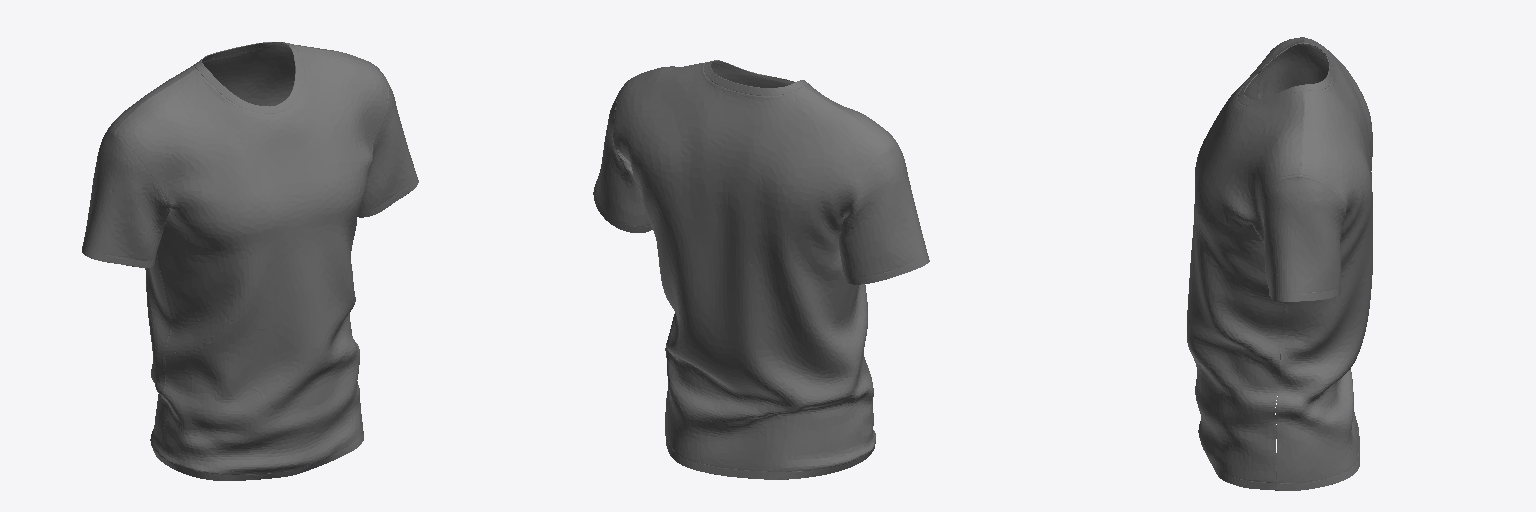
The picture shows the model from 3 angles: view 1: azimuth 30°, elevation 25°; view 2: azimuth 150°, elevation 25°; view 3: azimuth 270°, elevation 25°; orthographic projection.
Visible parts, largest first — view 1: front_Mesh.005, sleevee_Mesh.001, back_Mesh.004, sleevees_Mesh.007, neck_Mesh.003; view 2: back_Mesh.004, sleevee_Mesh.001, front_Mesh.005, sleevees_Mesh.007, neck_Mesh.003; view 3: front_Mesh.005, back_Mesh.004, sleevees_Mesh.007, sleevee_Mesh.001, neck_Mesh.003.
Part boxes in pixels (bbox=[...]): front_Mesh.005: bbox=[115, 46, 387, 480]; sleevee_Mesh.001: bbox=[82, 131, 169, 267]; back_Mesh.004: bbox=[107, 44, 368, 459]; sleevees_Mesh.007: bbox=[357, 77, 418, 217]; neck_Mesh.003: bbox=[194, 42, 301, 113]; back_Mesh.004: bbox=[613, 63, 888, 479]; sleevee_Mesh.001: bbox=[839, 144, 929, 284]; front_Mesh.005: bbox=[631, 62, 897, 460]; sleevees_Mesh.007: bbox=[593, 88, 652, 232]; neck_Mesh.003: bbox=[704, 60, 810, 95]; front_Mesh.005: bbox=[1187, 37, 1303, 490]; back_Mesh.004: bbox=[1276, 37, 1372, 490]; sleevees_Mesh.007: bbox=[1251, 175, 1346, 301]; sleevee_Mesh.001: bbox=[1258, 44, 1328, 98]; neck_Mesh.003: bbox=[1238, 43, 1332, 105].
Size of the model in its own units: 0.5502 by 0.613 by 0.269.